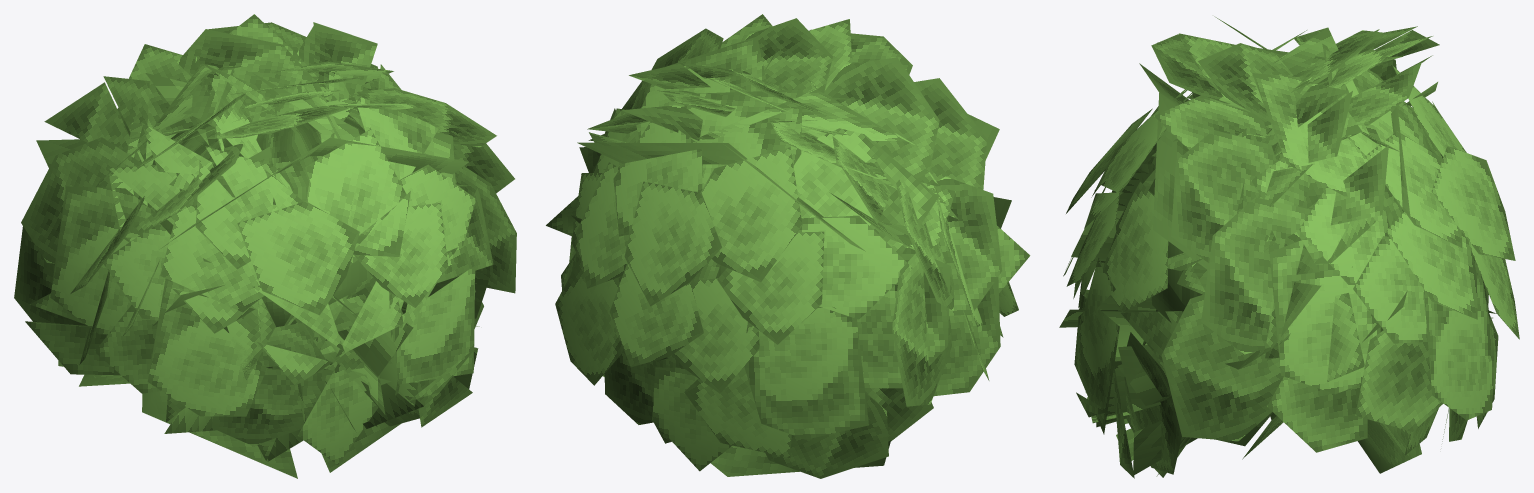
The model's file is bush-hydrangea-spring.glb.
3 renders of one model, left to right at view 1: azimuth 30°, elevation 25°; view 2: azimuth 150°, elevation 25°; view 3: azimuth 270°, elevation 25°, orthographic. The views are drawn at different scales.
Visible parts, largest first — view 1: bush-hydrangea-spring; view 2: bush-hydrangea-spring; view 3: bush-hydrangea-spring.
Boxes of the visible parts, x1=… form: bush-hydrangea-spring: x1=14, y1=14, x2=516, y2=478; bush-hydrangea-spring: x1=546, y1=14, x2=1030, y2=478; bush-hydrangea-spring: x1=1059, y1=16, x2=1519, y2=478.
Size of the model in its own units: 1.16 by 0.9609 by 0.9536.
1 material, 1 textured.
